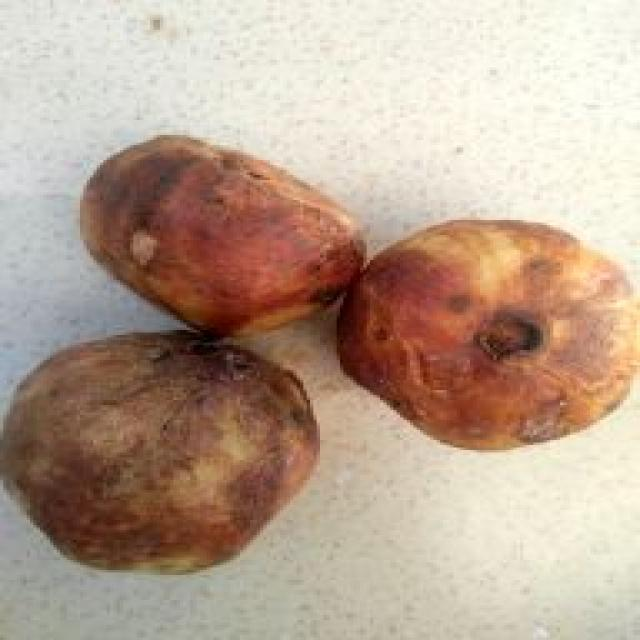Bad_Guava: (3, 332, 318, 572)
